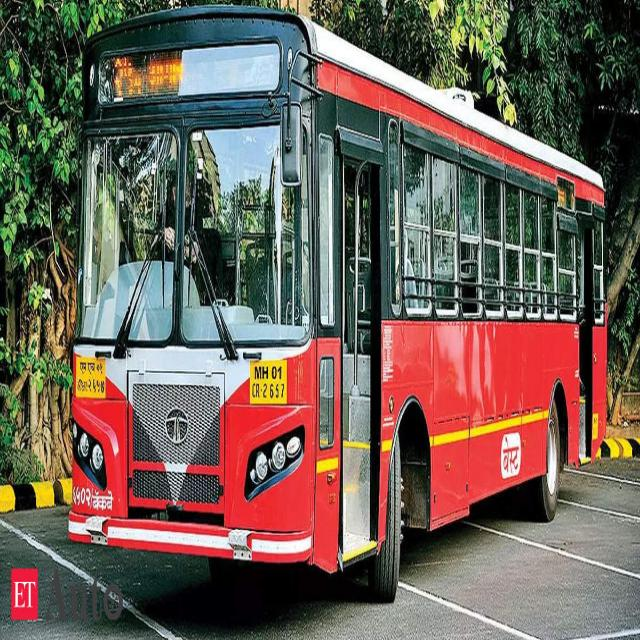bus: (73, 13, 604, 597)
